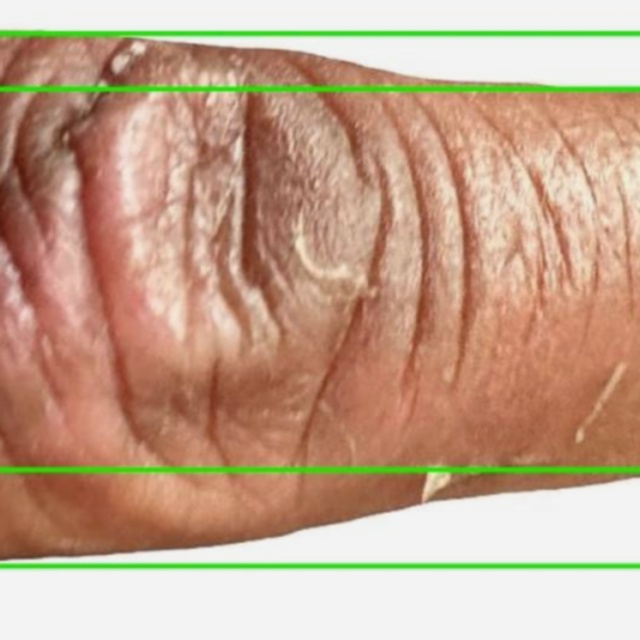Contact Dermatitis: (0, 33, 639, 566), (0, 469, 639, 639)
